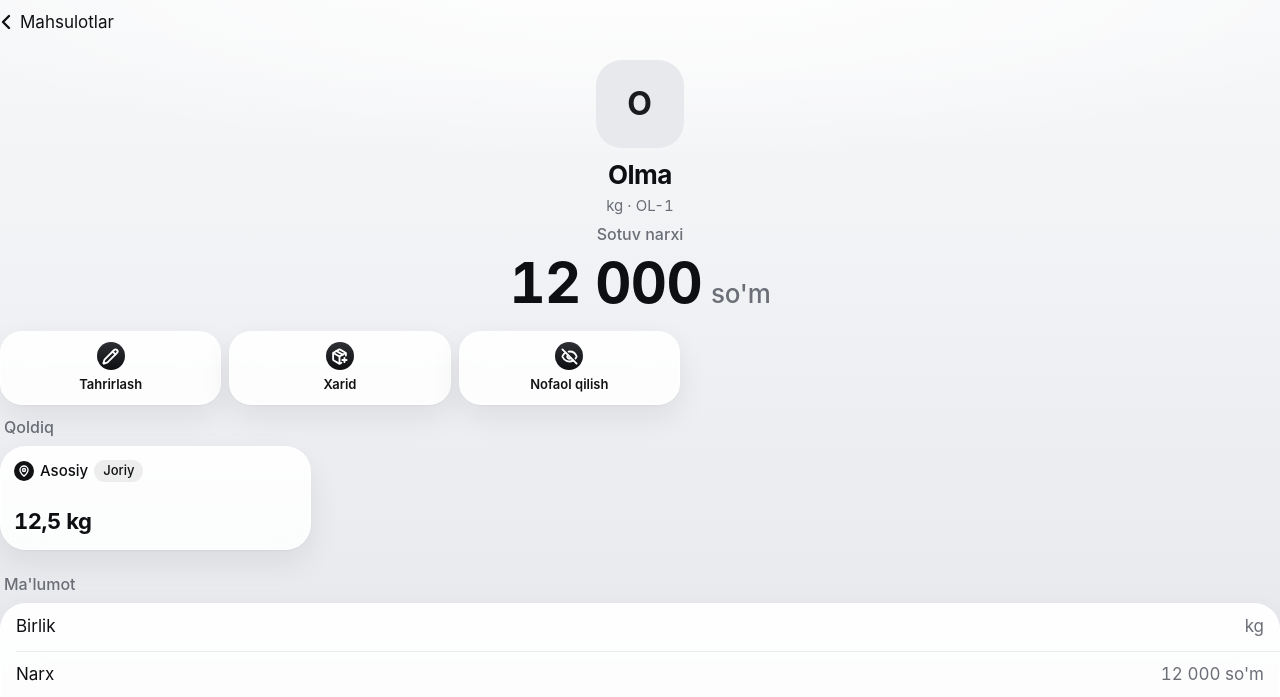
it: an edit or a switch on the page keeps the stock on screen (the answer carries no stock)
Expected: the heading "Olma" is shown, [608, 160, 672, 190]
Click the button "Tahrirlash". click: (111, 368)
box: [0, 331, 221, 405]
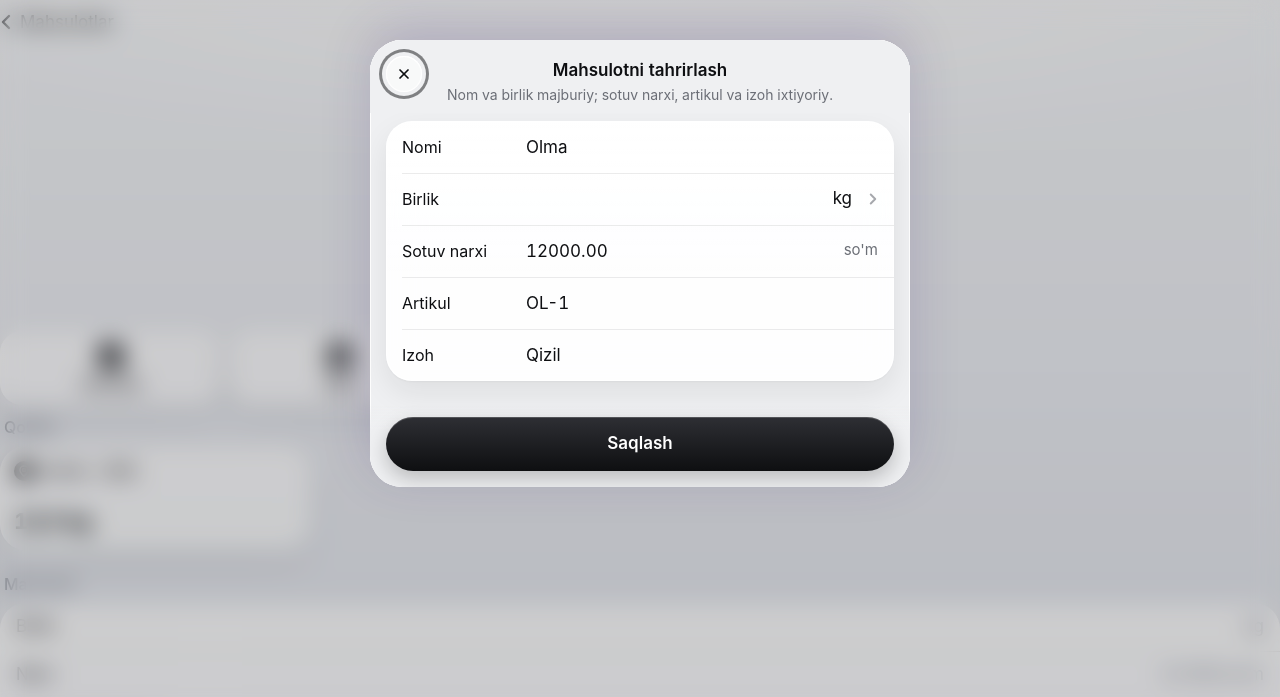
Replace the text in the field labelled "Nomi" with "Qizil olma". click: (702, 146)
box: [526, 124, 878, 168]
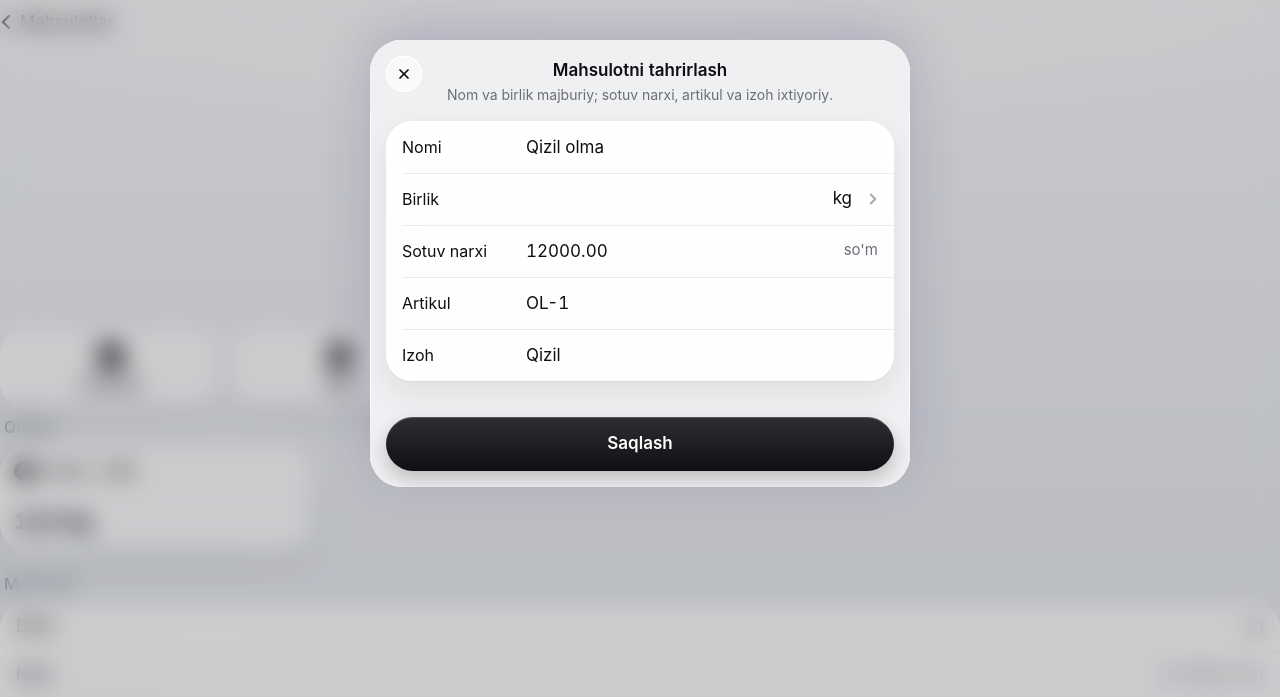
Click the button "Saqlash". click: (640, 444)
box: [386, 416, 894, 470]
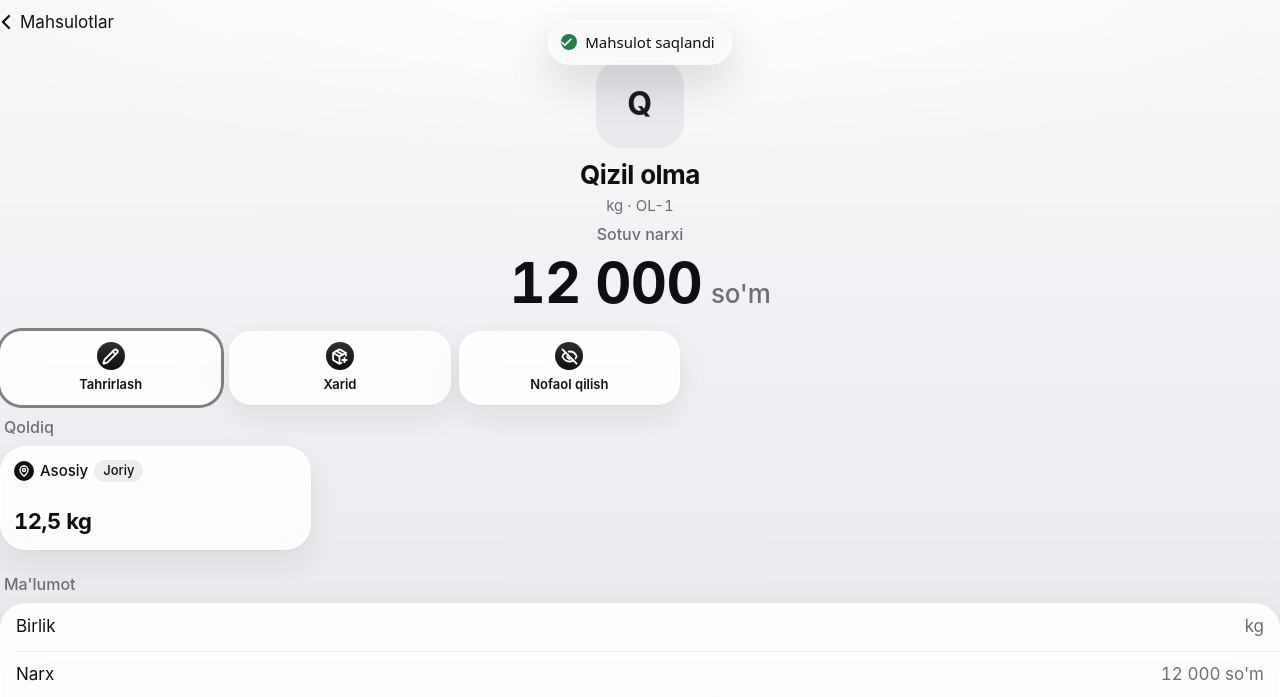
Now the heading "Qizil olma" is shown, box [580, 160, 700, 190]
Click the button "Nofaol qilish". click: (569, 368)
box: [459, 331, 680, 405]
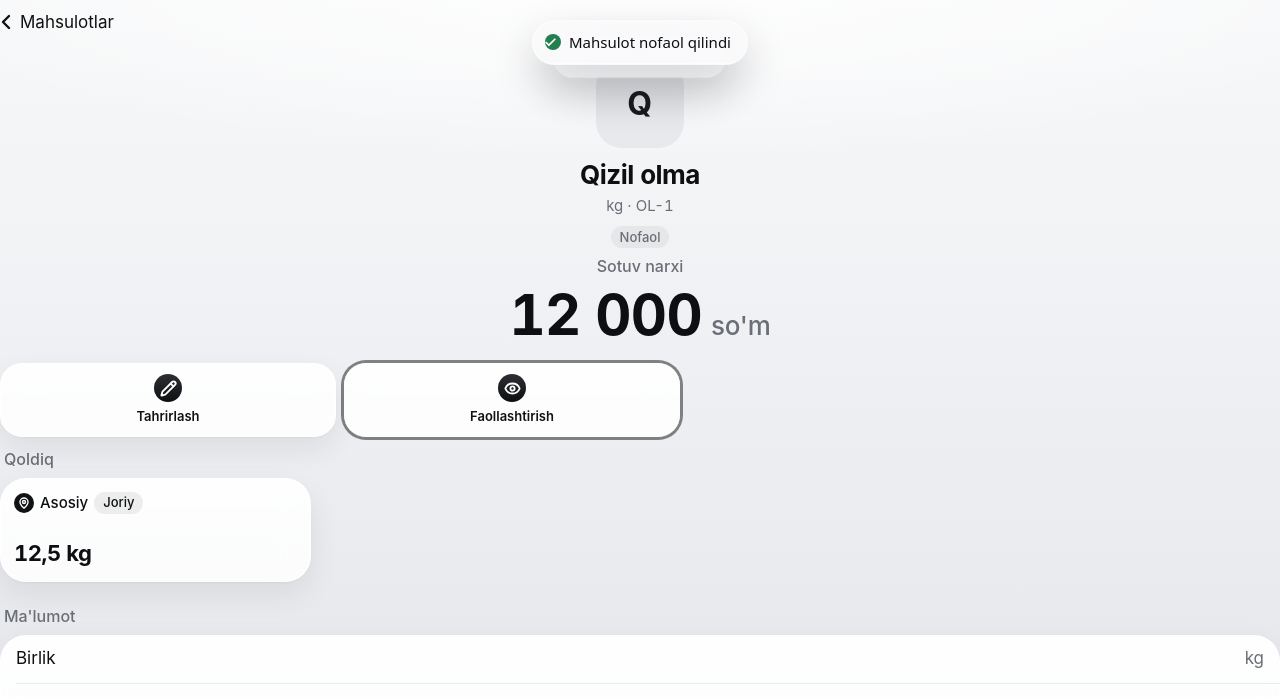
Now the button "Faollashtirish" is shown, box [344, 363, 680, 437]
